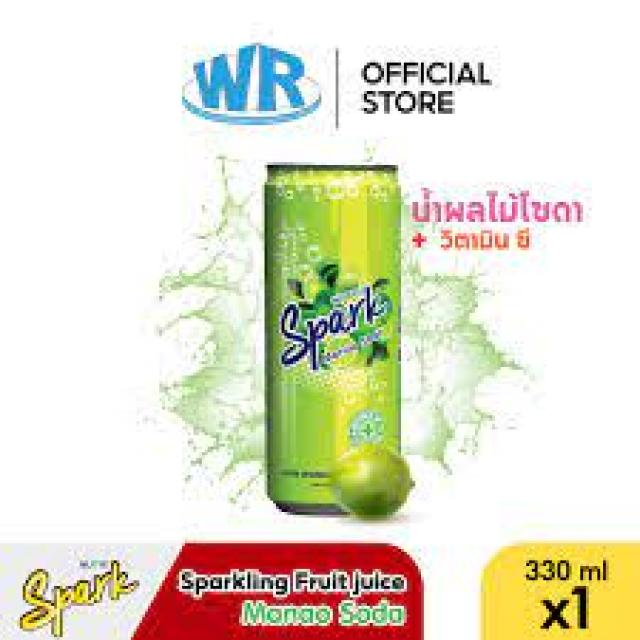can: (265, 159, 402, 518)
